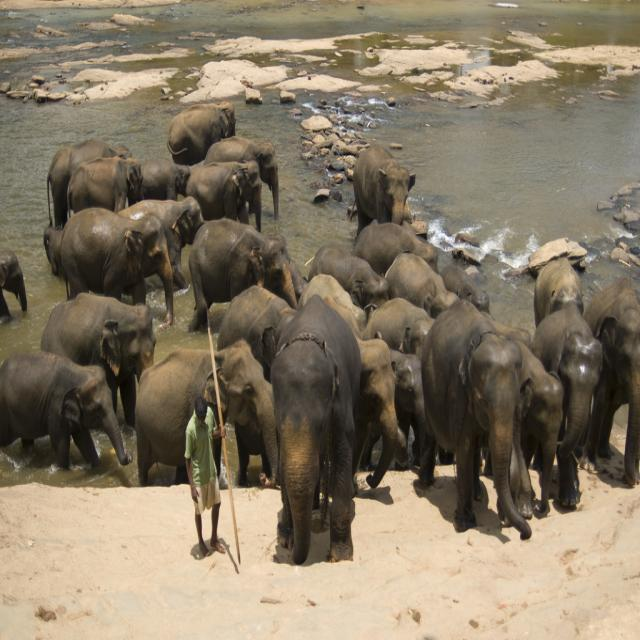Elephant: (0, 101, 640, 566)
